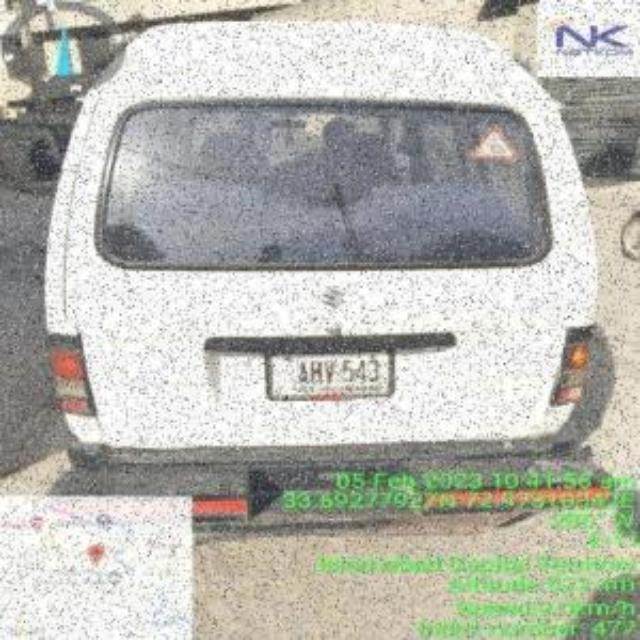License Plate: (274, 348, 396, 402)
